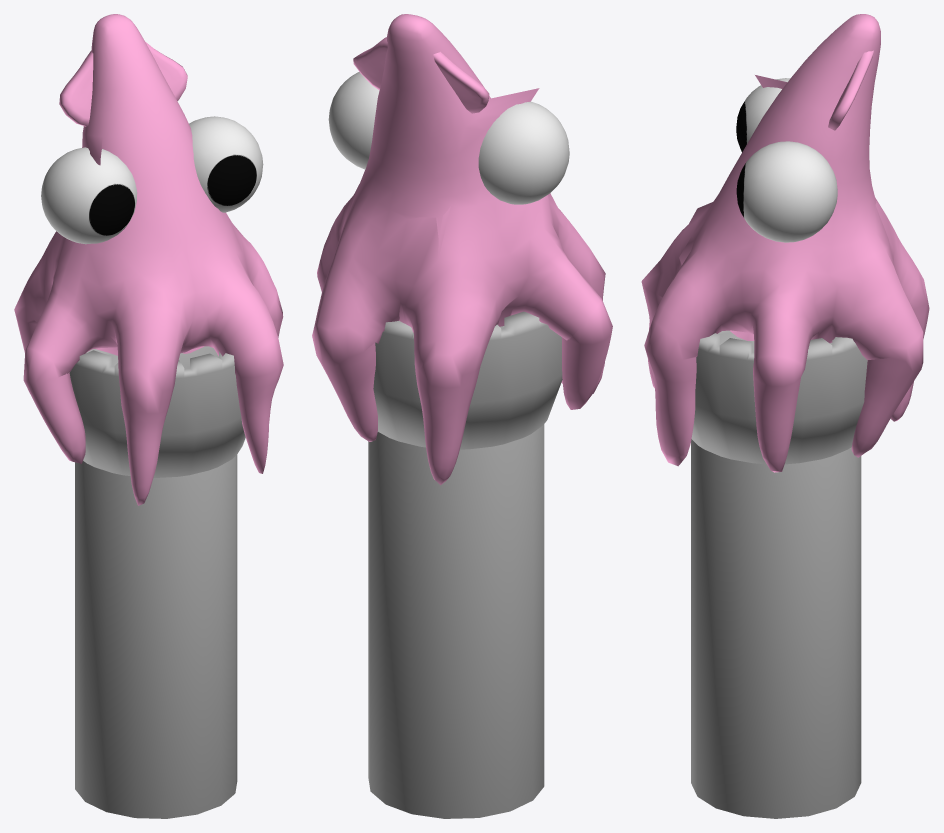
File: squib (1).fbx
3 renders of one model, left to right at view 1: azimuth 30°, elevation 25°; view 2: azimuth 150°, elevation 25°; view 3: azimuth 270°, elevation 25°, orthographic. The views are drawn at different scales.
Parts seen in each view (by area): view 1: SquidAndtower; view 2: SquidAndtower; view 3: SquidAndtower.
Boxes of the visible parts, bbox=[...] form: SquidAndtower: bbox=[14, 14, 283, 818]; SquidAndtower: bbox=[312, 14, 612, 818]; SquidAndtower: bbox=[641, 14, 929, 818].
Bounding box in the file's own units: 4.49 × 12.11 × 4.13.
